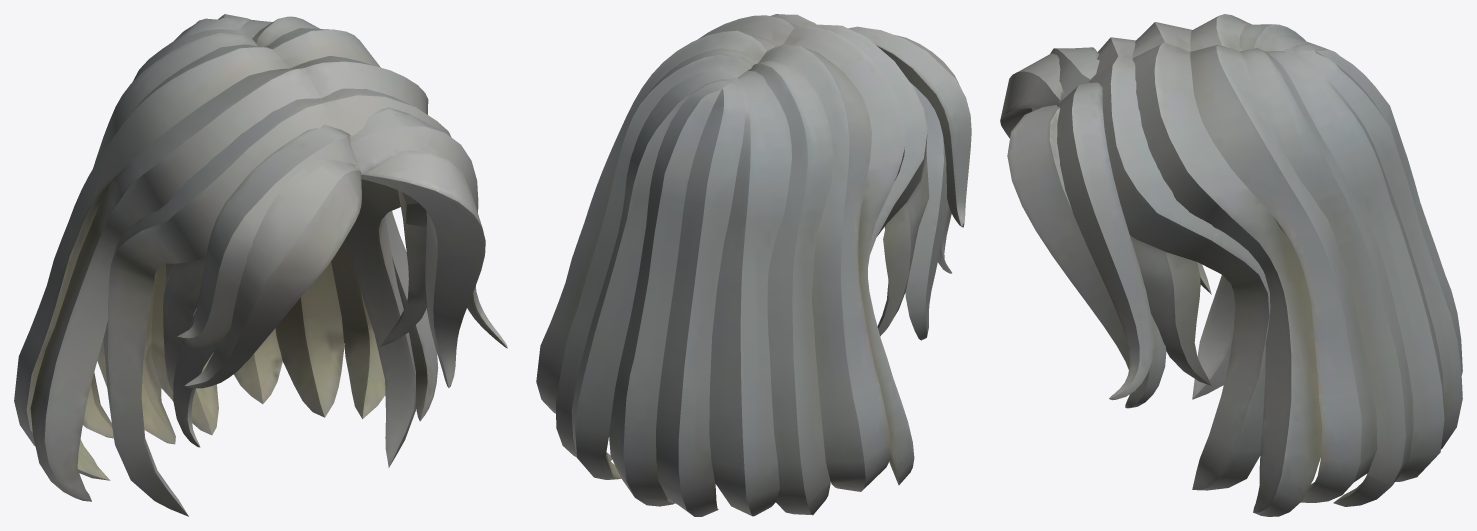
The model's file is hair-long.glb.
3 views of the same model, side by side, from view 1: azimuth 30°, elevation 25°; view 2: azimuth 150°, elevation 25°; view 3: azimuth 270°, elevation 25° (orthographic). The views are drawn at different scales.
Visible parts, largest first — view 1: Hair_Long; view 2: Hair_Long; view 3: Hair_Long.
Part boxes in pixels (<box>): Hair_Long: <box>14,14,507,516</box>; Hair_Long: <box>536,14,971,516</box>; Hair_Long: <box>1000,14,1462,516</box>.
Bounding box in the file's own units: 0.2447 × 0.2764 × 0.2704.
1 material, 1 textured.
